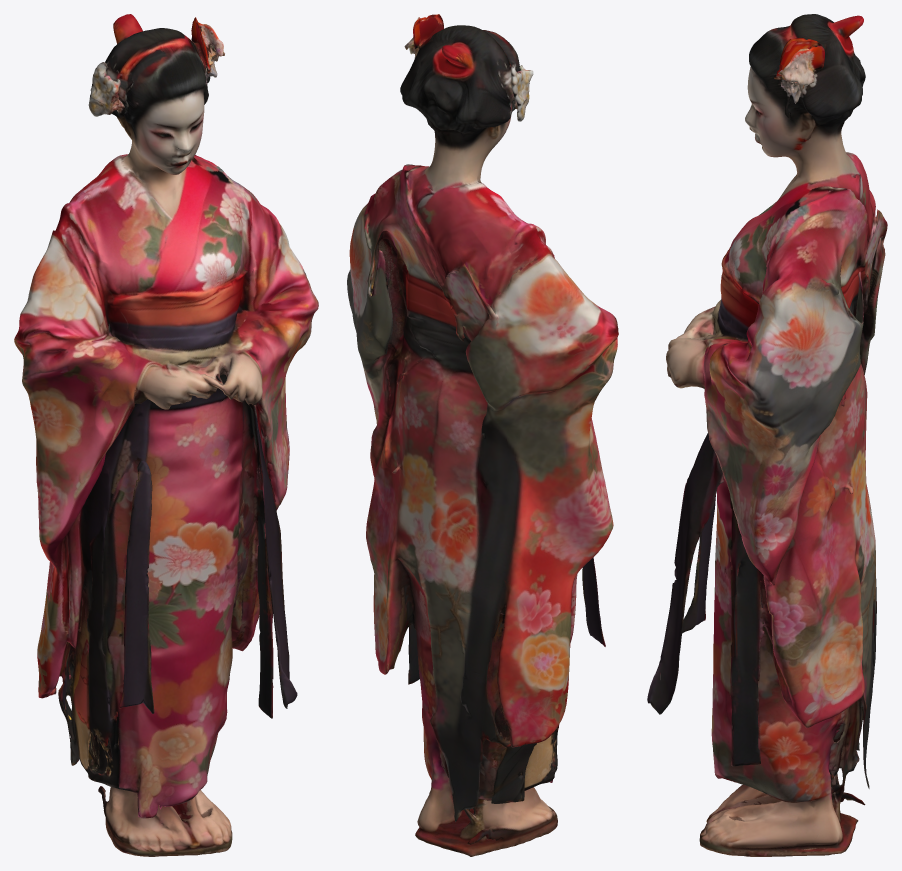
File: geisha_in_a_satin_floral_kimono.glb
3 renders of one model, left to right at view 1: azimuth 30°, elevation 25°; view 2: azimuth 150°, elevation 25°; view 3: azimuth 270°, elevation 25°, orthographic. The views are drawn at different scales.
Visible parts, largest first — view 1: Object_4; view 2: Object_4; view 3: Object_4.
Part boxes in pixels (bbox=[...]): Object_4: bbox=[14, 14, 318, 856]; Object_4: bbox=[347, 14, 618, 856]; Object_4: bbox=[647, 14, 887, 856].
Size of the model in its own units: 0.7392 by 2 by 0.5309.
1 material, 1 textured.
